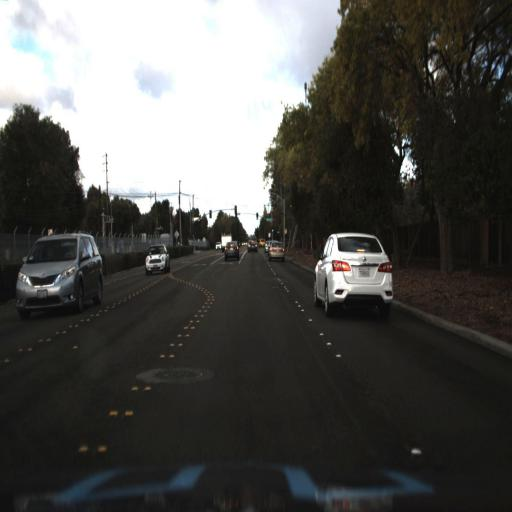car: (311, 220, 400, 326), (14, 230, 104, 326), (141, 236, 174, 276), (219, 234, 243, 263), (266, 239, 287, 261), (247, 236, 263, 256)
truck: (217, 228, 233, 251)
